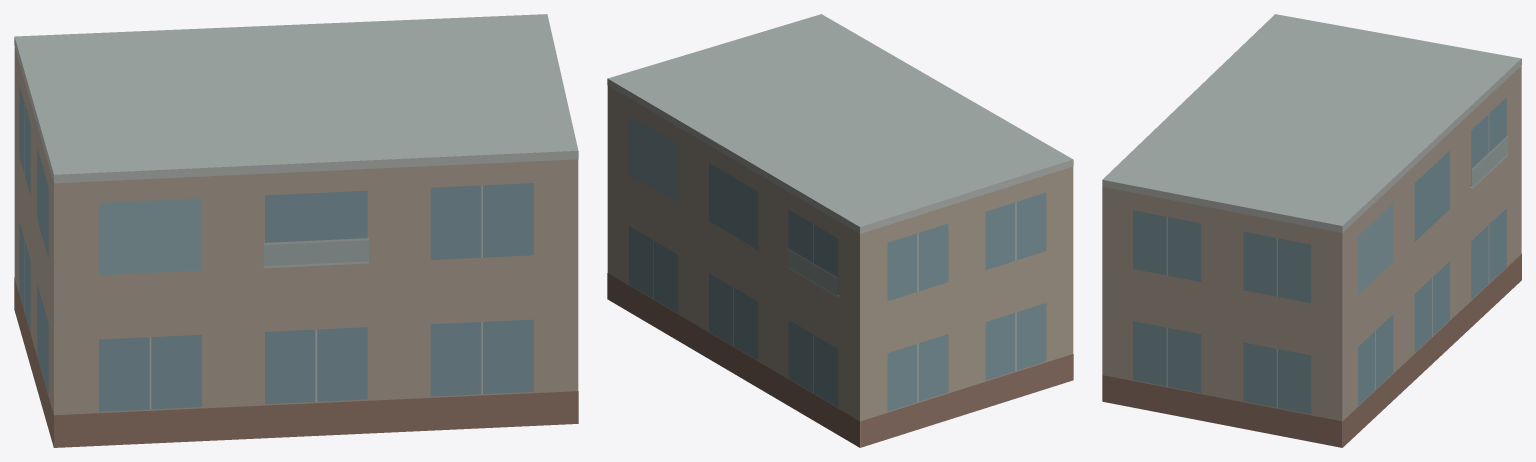
The model's file is survey-upis-32931094.glb.
3 views of the same model, side by side, from view 1: azimuth 30°, elevation 25°; view 2: azimuth 150°, elevation 25°; view 3: azimuth 270°, elevation 25° (orthographic). The views are drawn at different scales.
Parts seen in each view (by area): view 1: survey-upis-32931094.tmp; view 2: survey-upis-32931094.tmp; view 3: survey-upis-32931094.tmp.
Boxes of the visible parts, x1,y1,x2,y2 form: survey-upis-32931094.tmp: [14, 14, 578, 447]; survey-upis-32931094.tmp: [607, 14, 1073, 447]; survey-upis-32931094.tmp: [1102, 14, 1521, 447].
Bounding box in the file's own units: 16 × 7.8 × 13.38.
